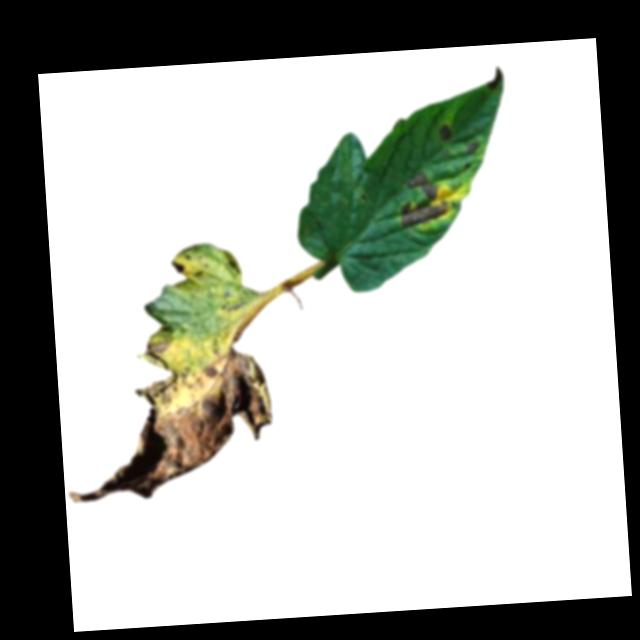Early_blight: (57, 331, 277, 506), (396, 170, 451, 231), (486, 65, 504, 92), (436, 122, 453, 146), (170, 260, 184, 278), (465, 141, 482, 155)
